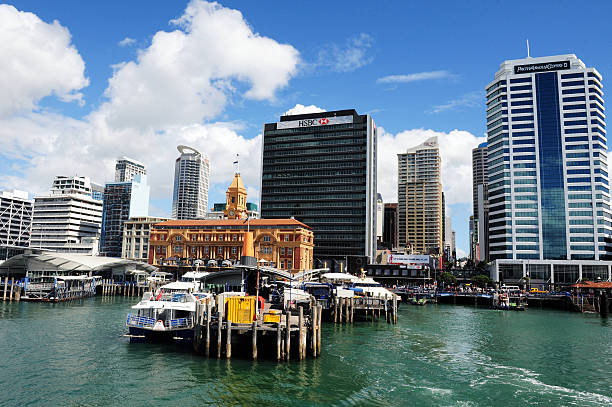ferry: (123, 284, 217, 348), (345, 268, 401, 312)
